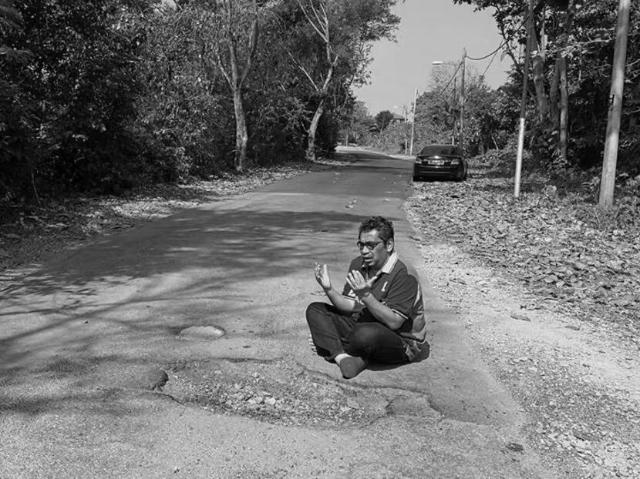Pothole: (147, 356, 450, 438), (173, 320, 227, 344)
